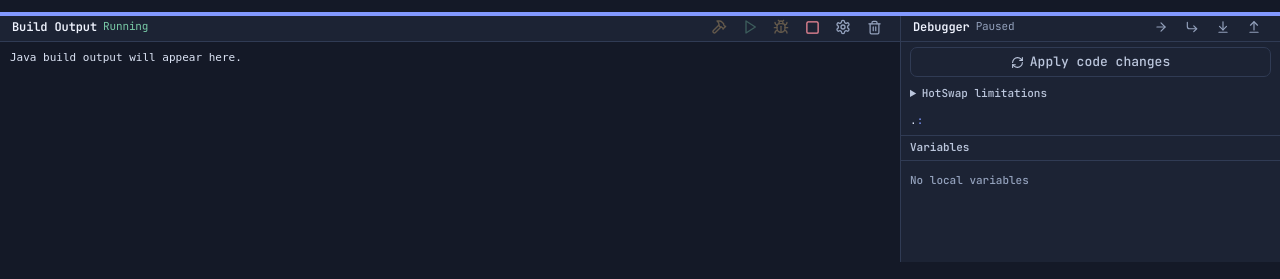
shows compilation errors and allows retry without restarting
Click the button "Apply code changes". click: (1090, 62)
box: [910,47,1271,77]
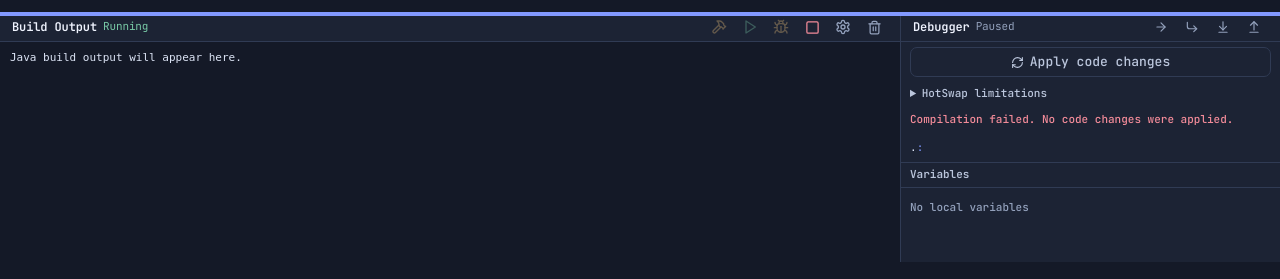
Now the message reads "Compilation failed. No code changes were applied.", box [910,112,1233,126]
Click the button "Apply code changes". click: (1090, 62)
box: [910,47,1271,77]
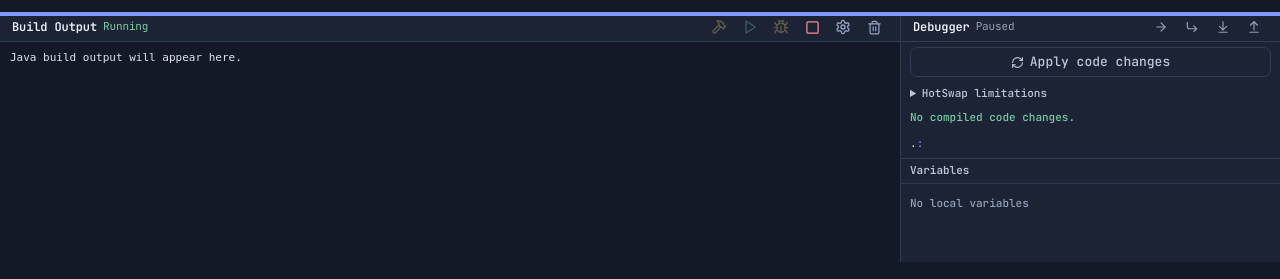
Now the text "No compiled code changes." is shown, box [910,110,1075,124]
